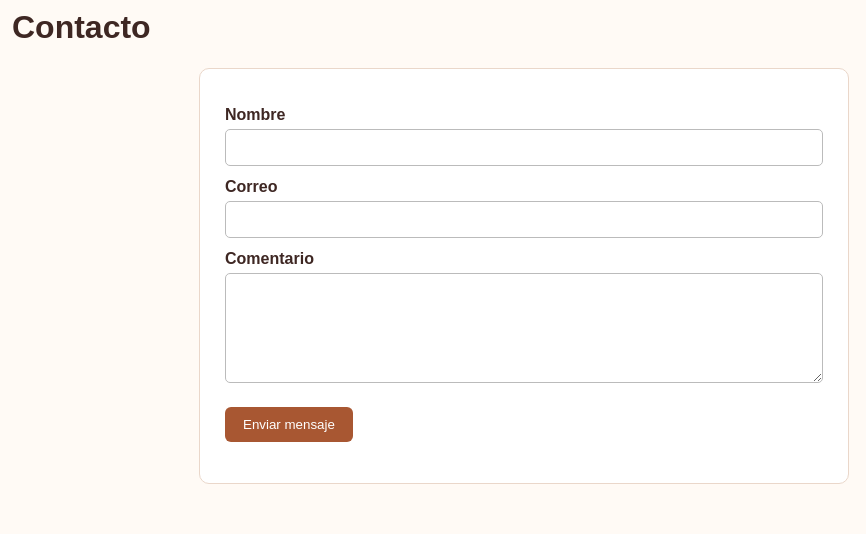
it: Contacto › muestra un error si el comentario esta vacio
The width and height of the screenshot is (866, 534).
Type "Ana" into the field with id "nombre".
click(524, 148); type("Ana")  # box [225,129,823,166]
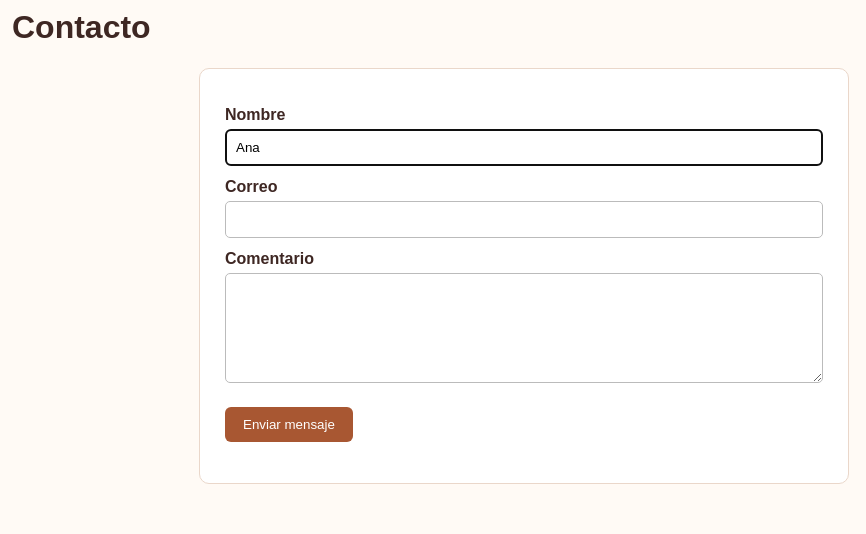
Click the button "Enviar mensaje".
click(289, 425)  # box [225,407,353,442]
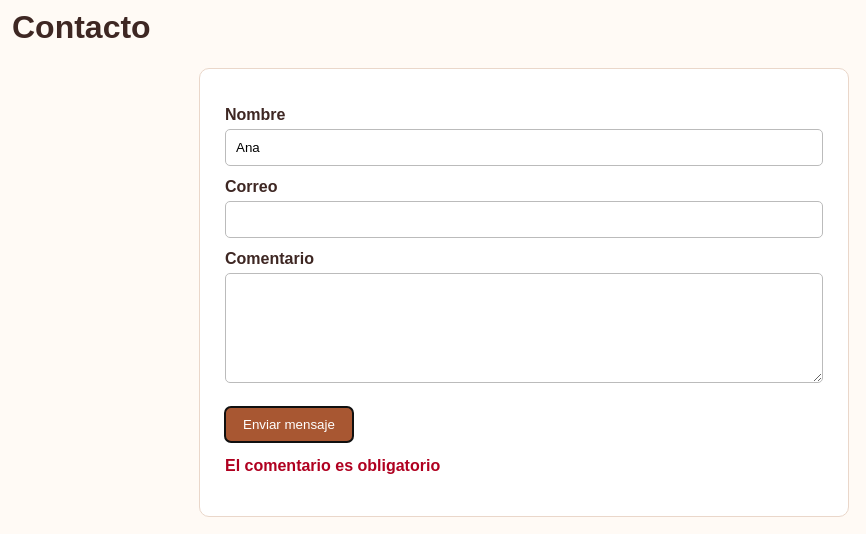
Now the text "El comentario es obligatorio" is shown, box [225,457,440,474]
